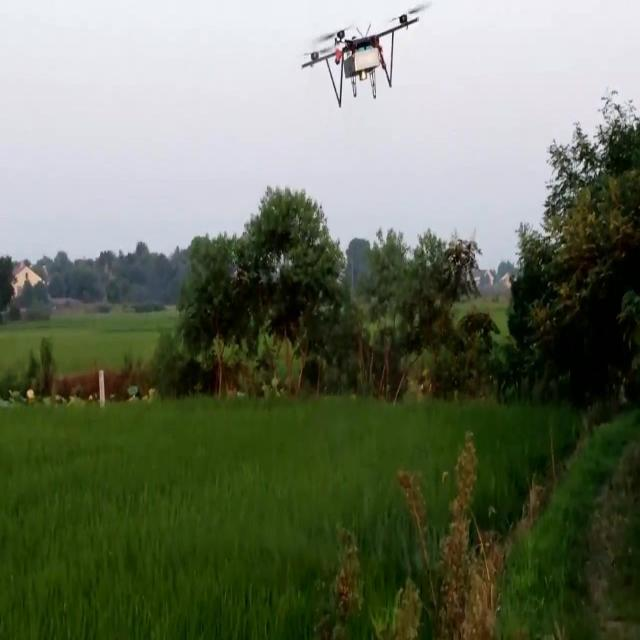drone: (300, 9, 419, 110)
